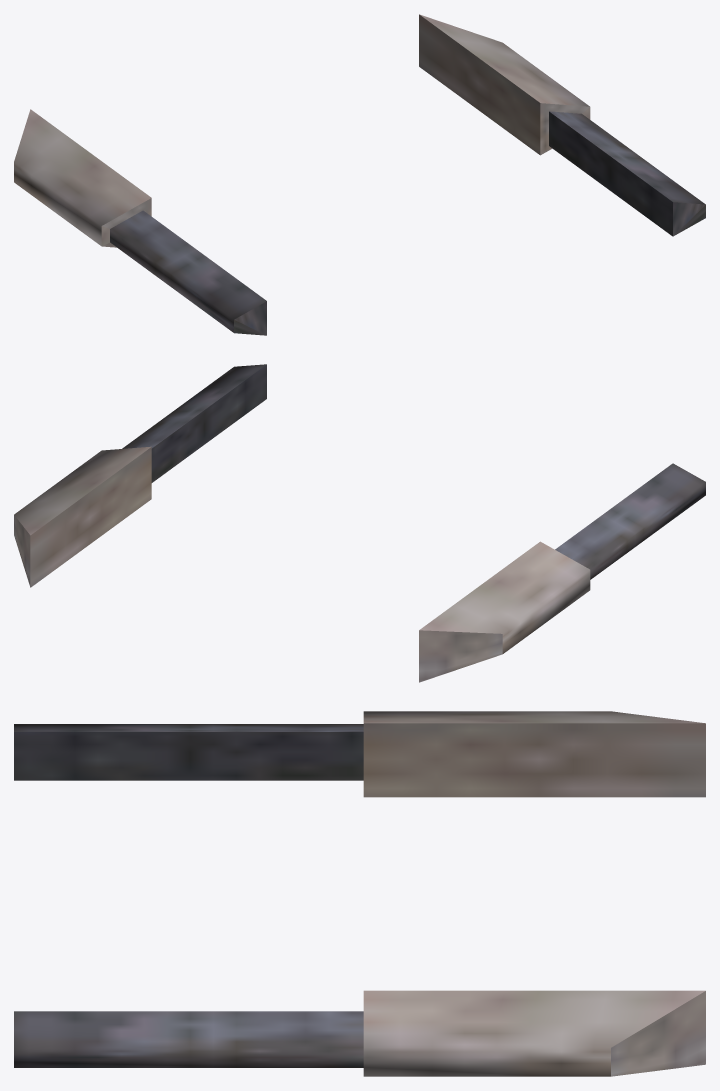
File: rebel_gunboat_turretbody_s01_l1.fbx
3 renders of one model, top to bottom at view 1: azimuth 30°, elevation 25°; view 2: azimuth 150°, elevation 25°; view 3: azimuth 270°, elevation 25°, orthographic. The views are drawn at different scales.
Visible parts, largest first — view 1: mesh_node; view 2: mesh_node; view 3: mesh_node.
Boxes of the visible parts, bbox=[...] form: mesh_node: bbox=[14, 14, 705, 335]; mesh_node: bbox=[14, 364, 705, 682]; mesh_node: bbox=[14, 711, 705, 1076].
Bounding box in the file's own units: 9.01 × 0.9235 × 7.83.
